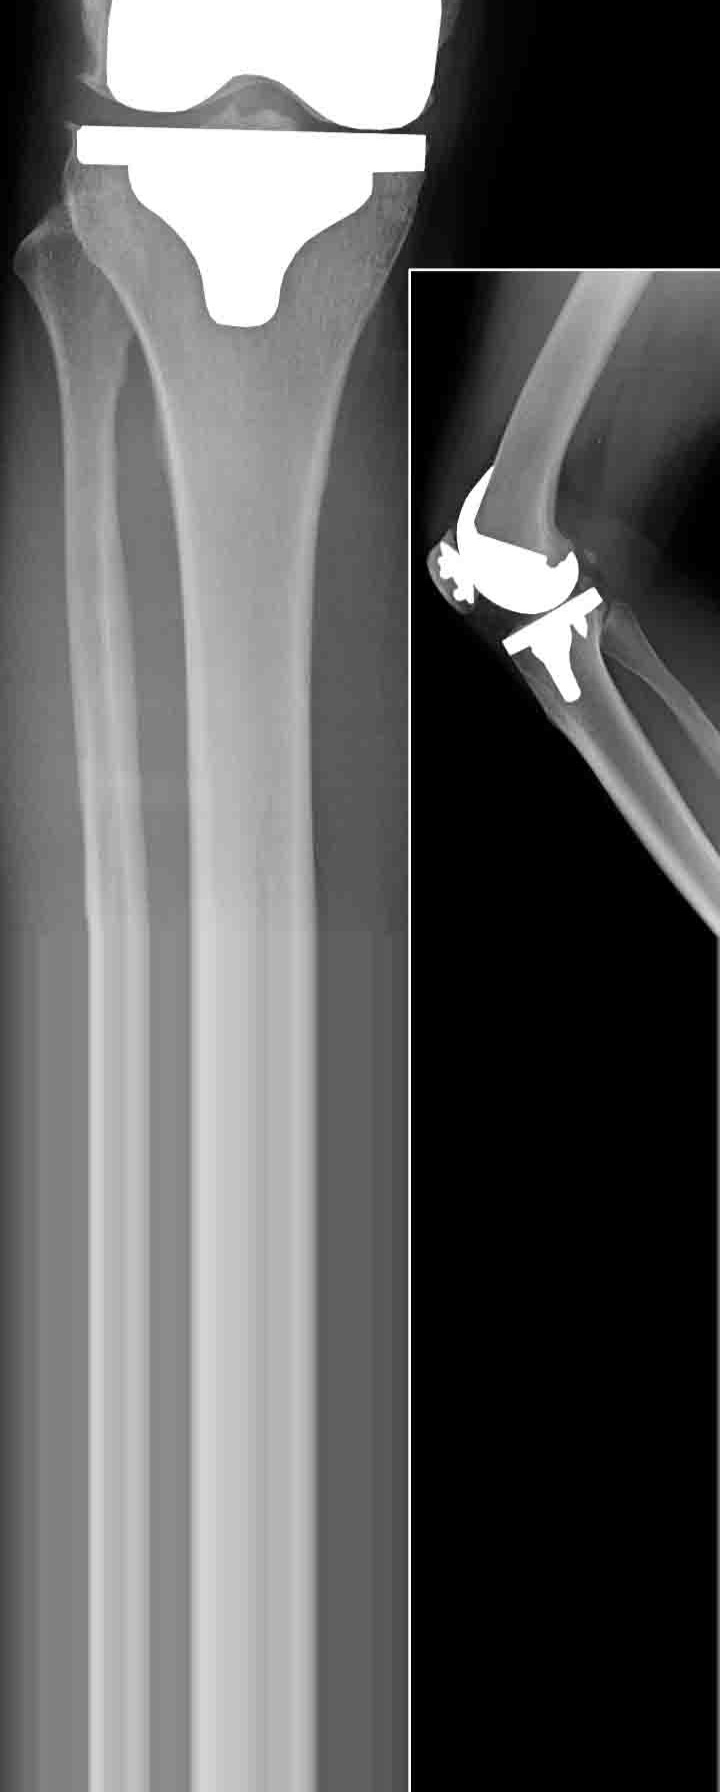Knee-TriathlonTritanium-Stryker: (51, 1, 438, 327), (429, 450, 605, 709)
